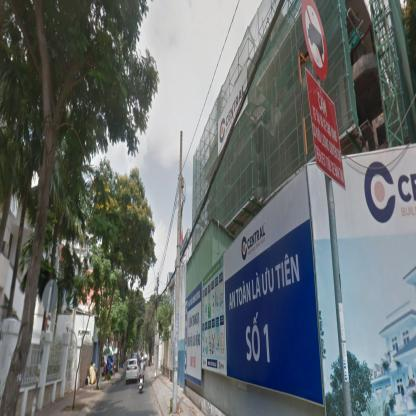Cam con lai: (300, 0, 327, 80)
